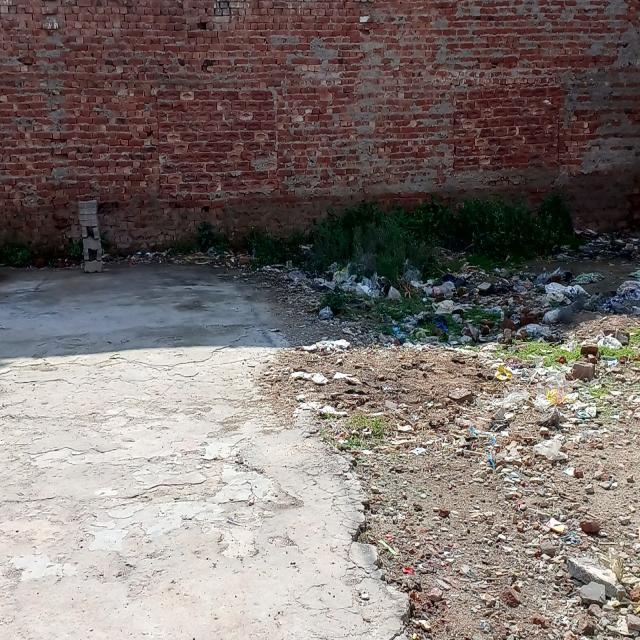garbage: (270, 350, 640, 640), (126, 238, 640, 350)
